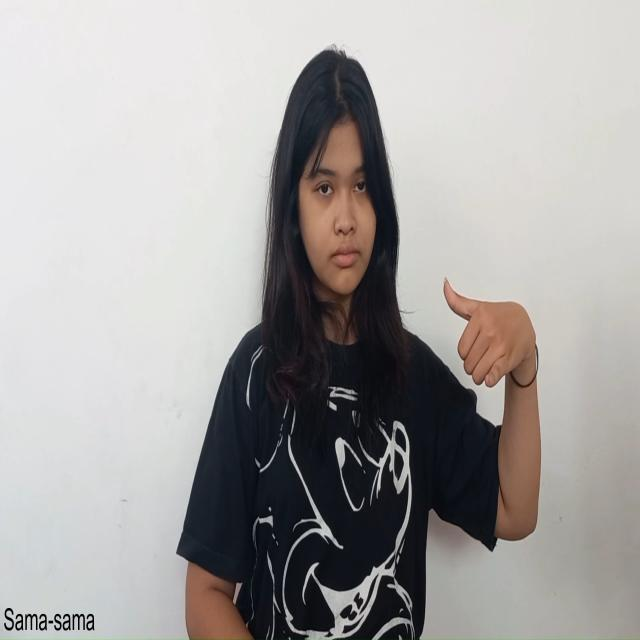Sama-sama -BISINDO-: (442, 274, 540, 391)
